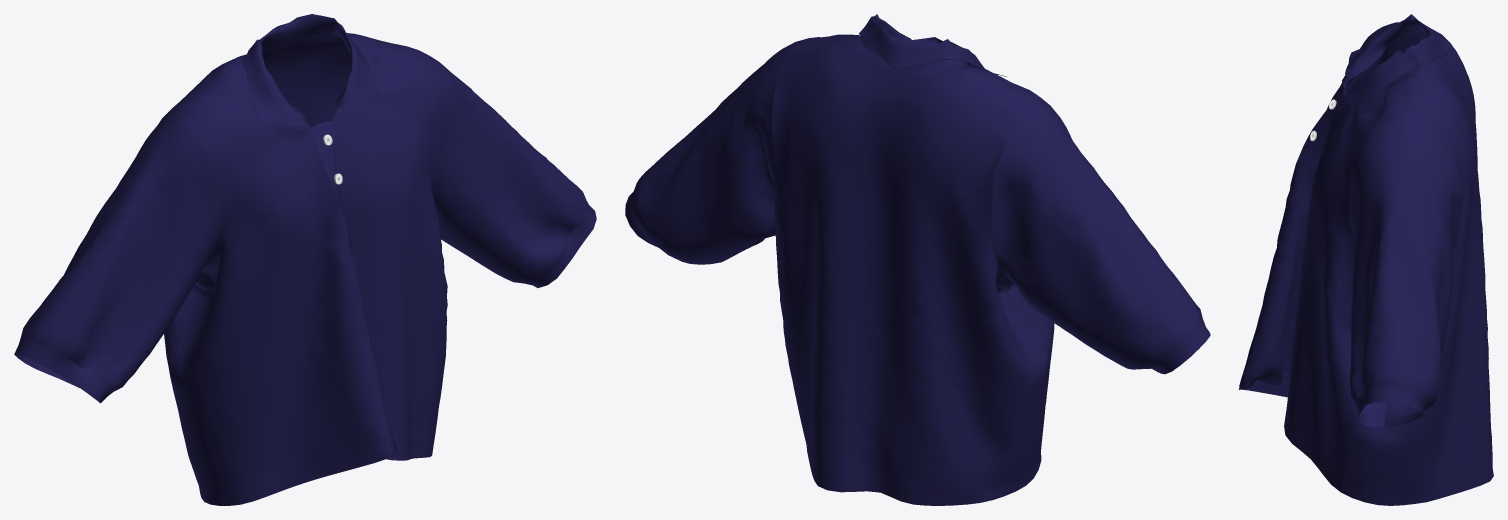
Rendered from FLG_12160001.fbx.
3 renders of one model, left to right at view 1: azimuth 30°, elevation 25°; view 2: azimuth 150°, elevation 25°; view 3: azimuth 270°, elevation 25°, orthographic. The views are drawn at different scales.
Visible parts, largest first — view 1: FLG_12160001; view 2: FLG_12160001; view 3: FLG_12160001.
Boxes of the visible parts, left/top/right/bottom form: FLG_12160001: left=14, top=14, right=596, bottom=505; FLG_12160001: left=625, top=14, right=1210, bottom=505; FLG_12160001: left=1239, top=14, right=1493, bottom=505.
Size of the model in its own units: 96.79 by 72.2 by 38.33.
